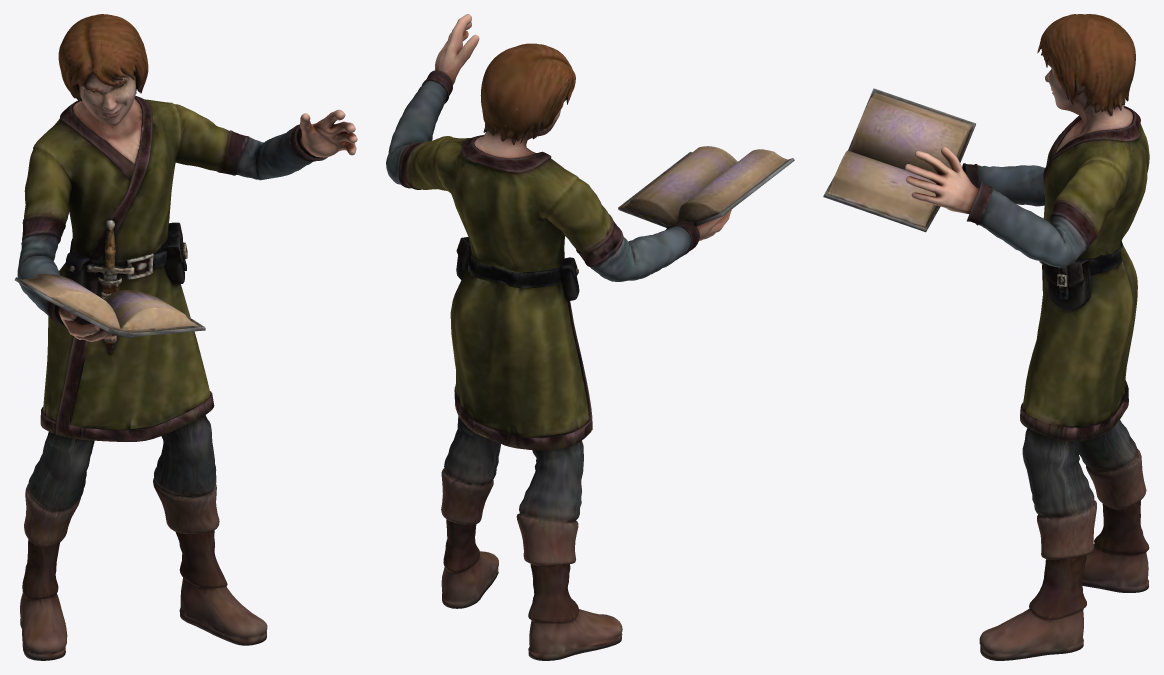
The model's file is MZ4250 - Apprentice Wizard_4.glb.
3 renders of one model, left to right at view 1: azimuth 30°, elevation 25°; view 2: azimuth 150°, elevation 25°; view 3: azimuth 270°, elevation 25°, orthographic. The views are drawn at different scales.
Visible parts, largest first — view 1: Pouch Generic 3.001; view 2: Pouch Generic 3.001; view 3: Pouch Generic 3.001.
Part boxes in pixels (<box>): Pouch Generic 3.001: <box>14,14,357,660</box>; Pouch Generic 3.001: <box>386,14,794,660</box>; Pouch Generic 3.001: <box>823,14,1149,660</box>.
Bounding box in the file's own units: 0.4812 × 0.8256 × 0.4147.
1 material, 1 textured.
